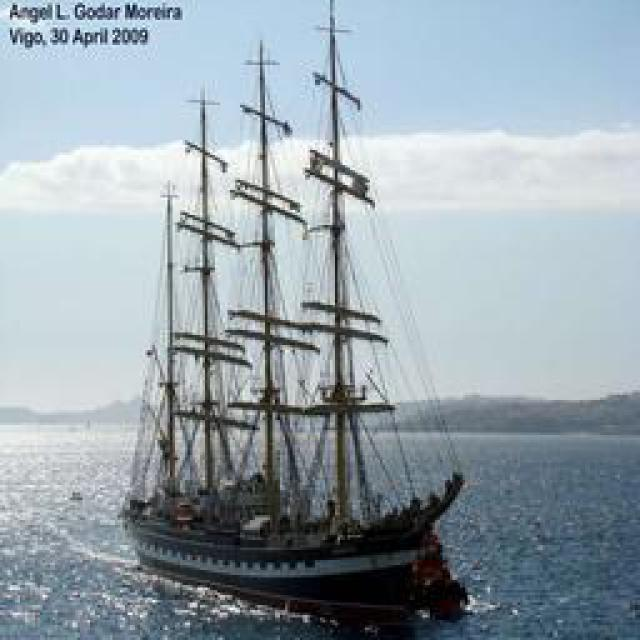Ship: (112, 20, 492, 588)
